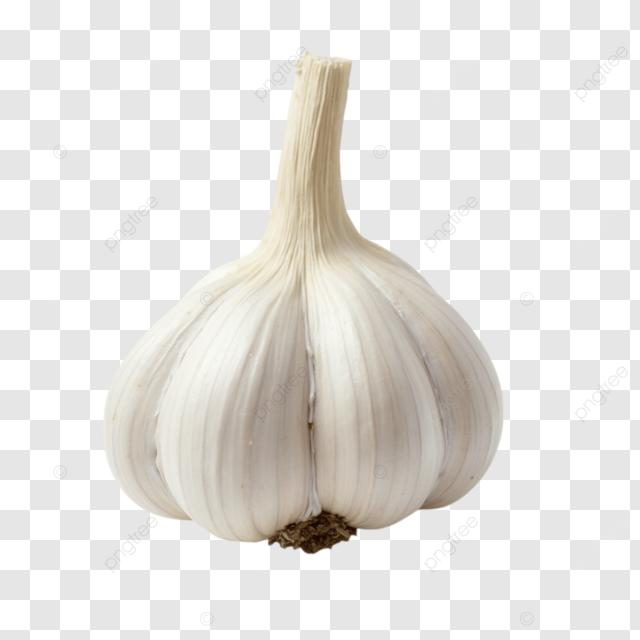garlic: (95, 218, 509, 547)
